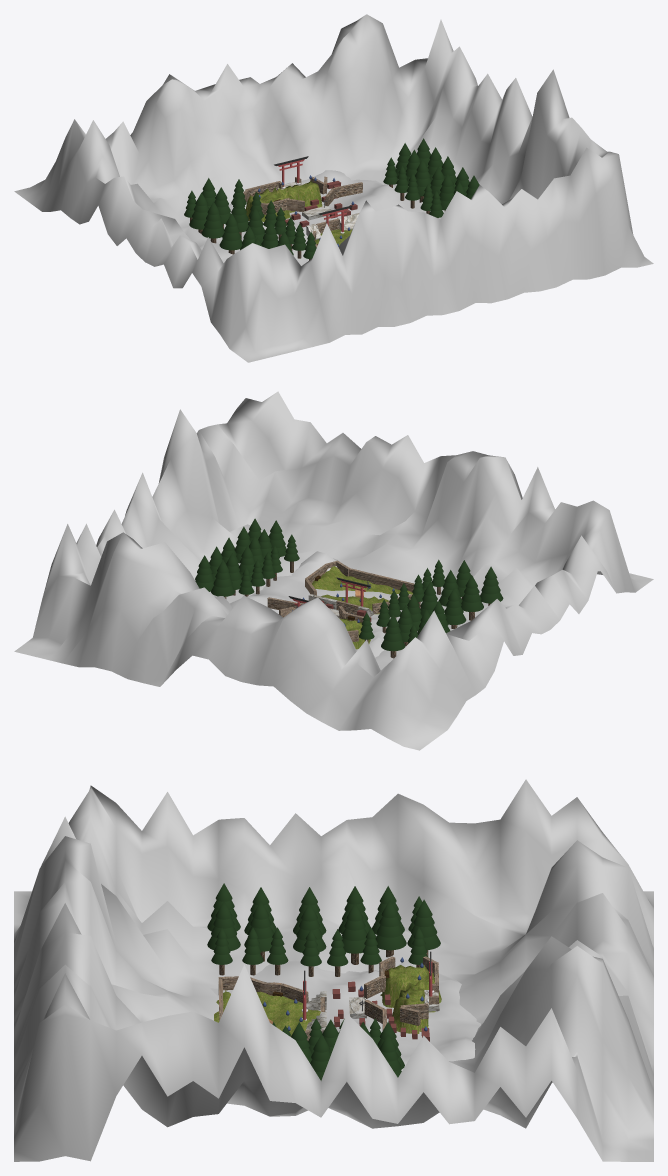
File: 3d level map.fbx
The picture shows the model from 3 angles, top to bottom: view 1: azimuth 30°, elevation 25°; view 2: azimuth 150°, elevation 25°; view 3: azimuth 270°, elevation 25°; orthographic projection. The views are drawn at different scales.
Parts seen in each view (by area): view 1: pPlane2, pPlane4, pPlane1; view 2: pPlane2, pPlane4, pPlane1, pCube1; view 3: pPlane2, pPlane4, pPlane1.
Boxes of the visible parts, x1=… form: pPlane2: x1=14, y1=14, x2=653, y2=362; pPlane4: x1=228, y1=170, x2=421, y2=265; pPlane1: x1=245, y1=180, x2=352, y2=245; pPlane2: x1=14, y1=391, x2=653, y2=750; pPlane4: x1=230, y1=551, x2=422, y2=657; pPlane1: x1=312, y1=566, x2=412, y2=649; pCube1: x1=349, y1=568, x2=414, y2=591; pPlane2: x1=14, y1=779, x2=653, y2=1161; pPlane4: x1=210, y1=959, x2=480, y2=1070; pPlane1: x1=214, y1=965, x2=441, y2=1036.
Bounding box in the file's own units: 65.86 × 21.3 × 65.86.
